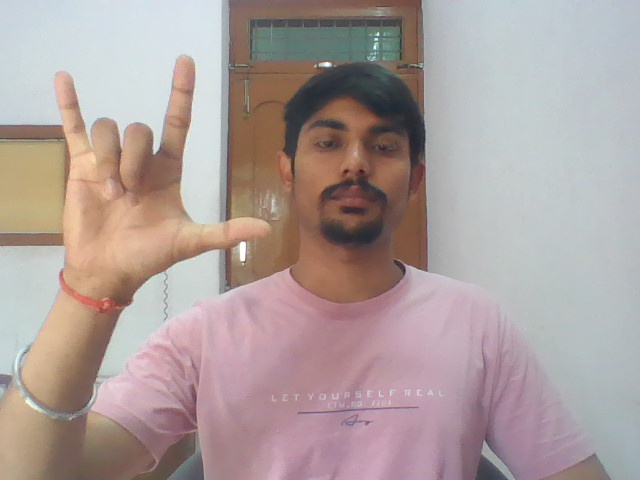I Love You: (42, 49, 286, 274)
